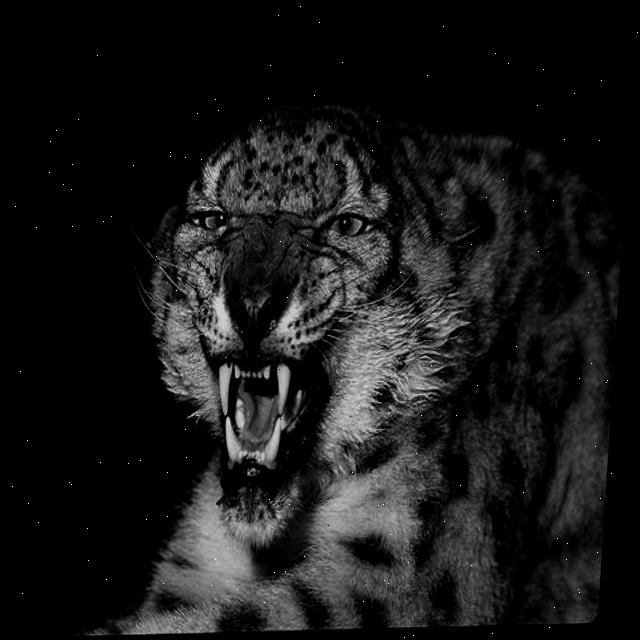Leopard: (68, 62, 573, 638)
